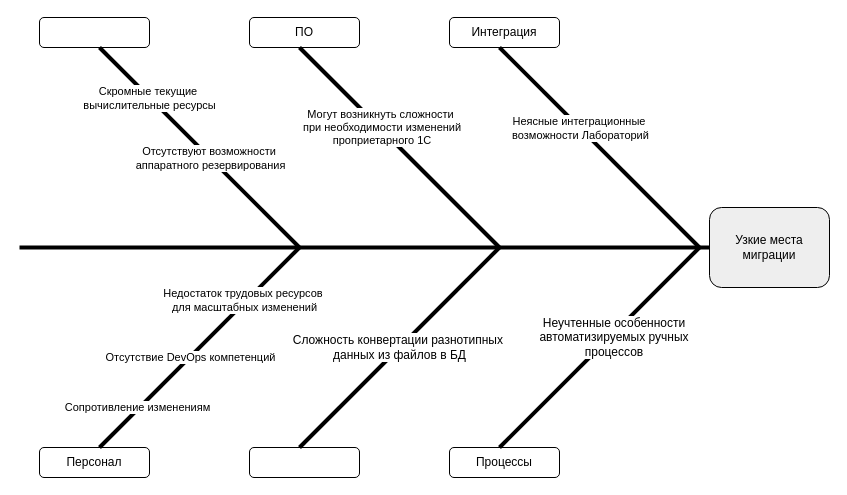
Image size: 847x495. Some labels were removed from this diagram. Each missing label, with the centre of its shape:
"Данные" goes at (304,462).
"Инфраструктура" goes at (94,32).
